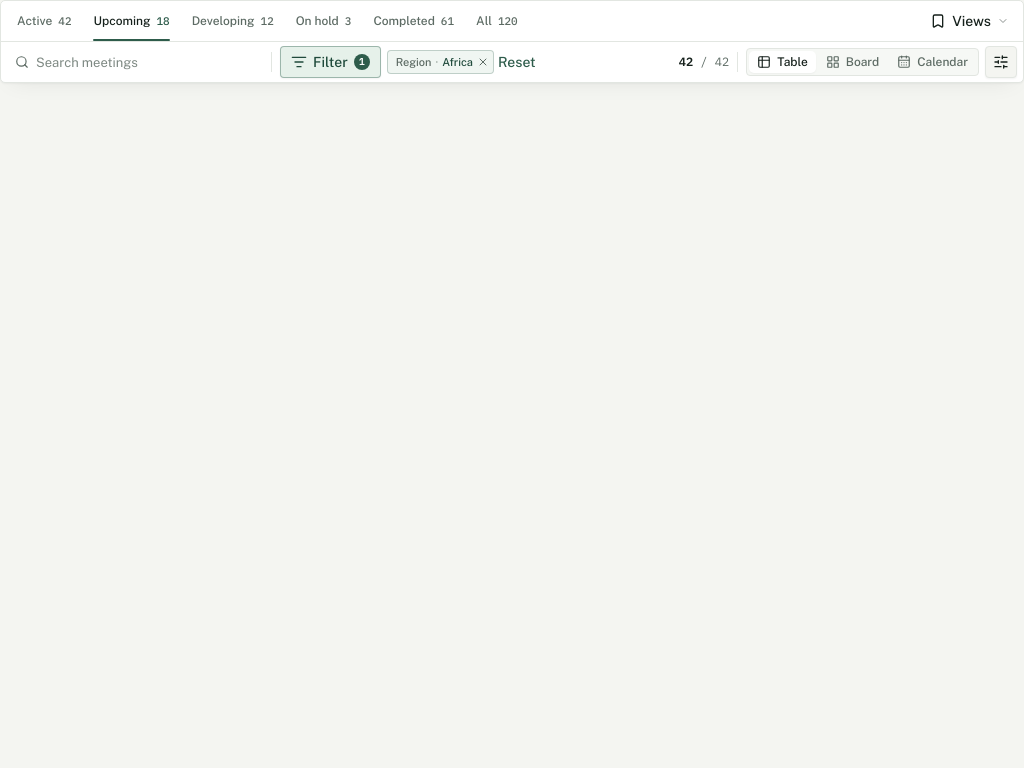
MeetingsToolbar › offers the built-in views as links, and saves the current filters under a name
The width and height of the screenshot is (1024, 768).
Click the button "Views" at (970, 21), box [920, 5, 1019, 37]
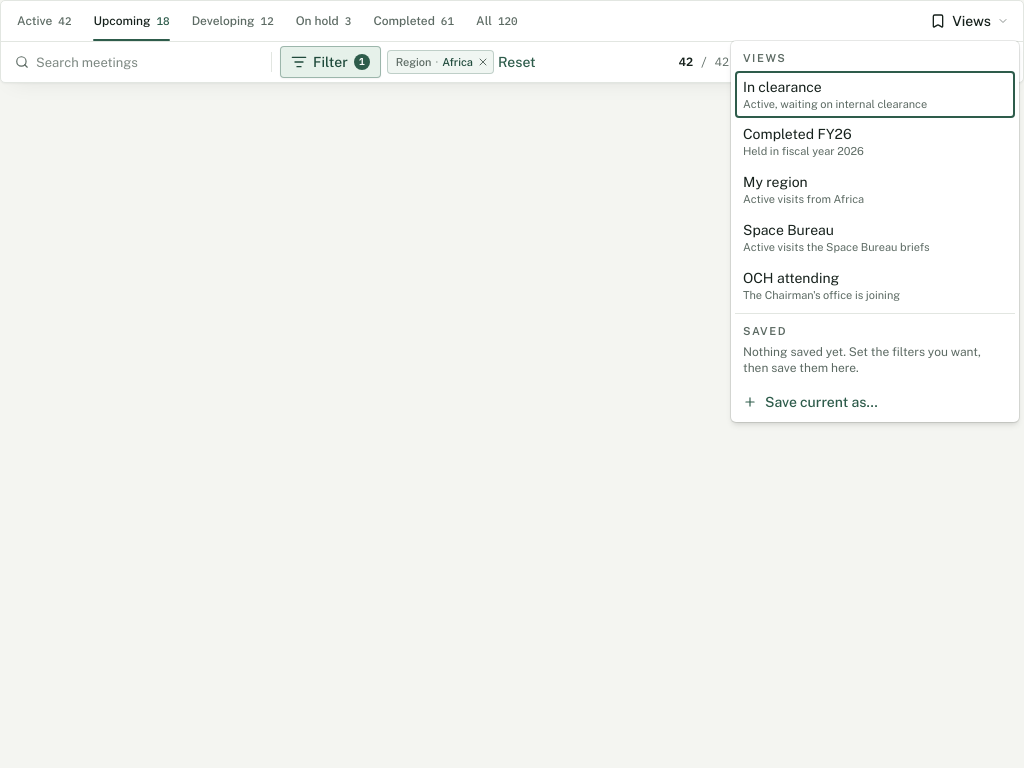
Result: the text "Nothing saved yet. Set the filters you want, then save them here." is shown at [743, 345, 981, 375]
Click the button "Save current as…" at (875, 402), box [735, 386, 1015, 418]
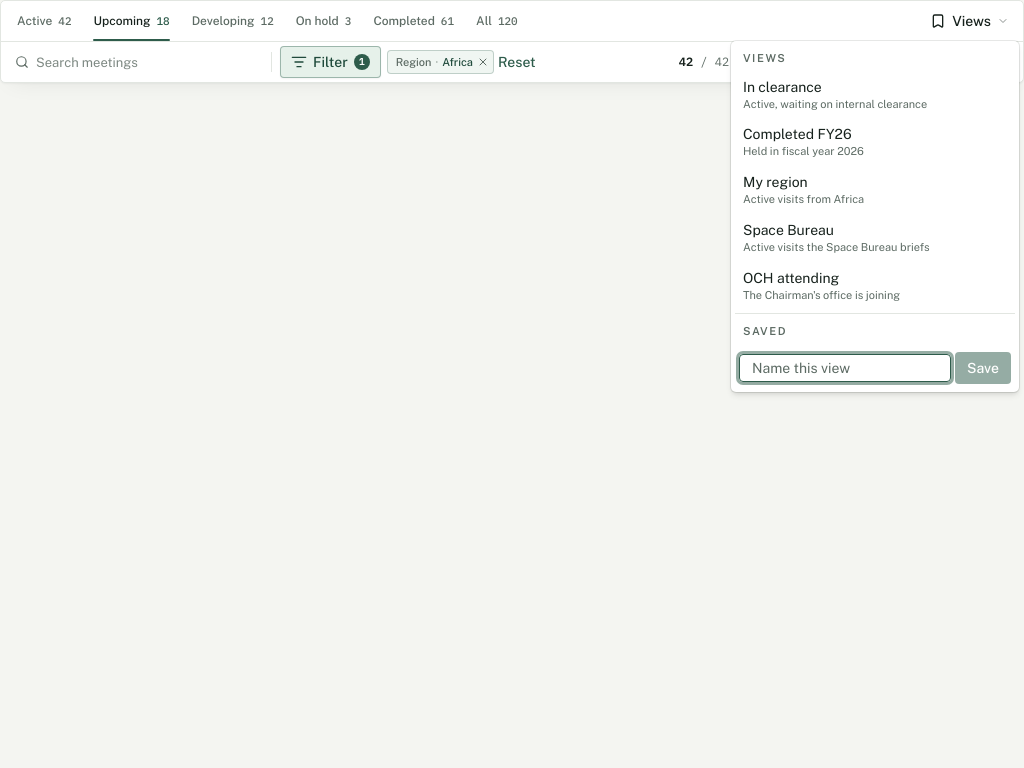
Type "Africa, soon" into the field labelled "View name" at (845, 368), box [739, 354, 951, 382]
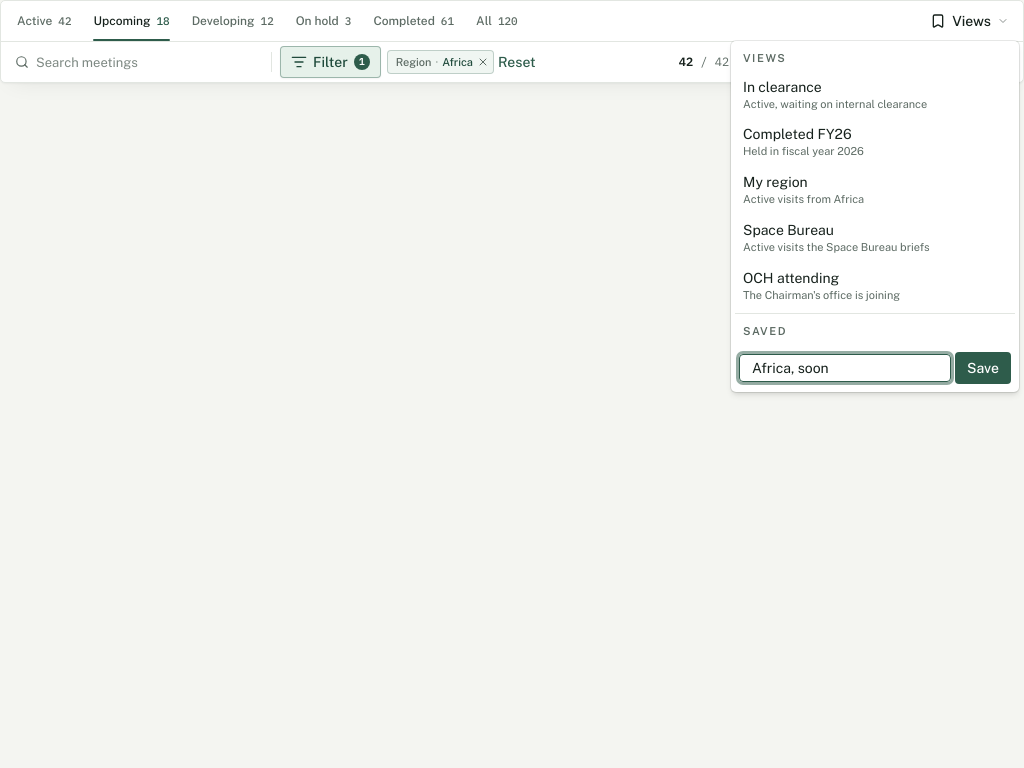
Click the button "Save" at (983, 368), box [955, 352, 1011, 384]
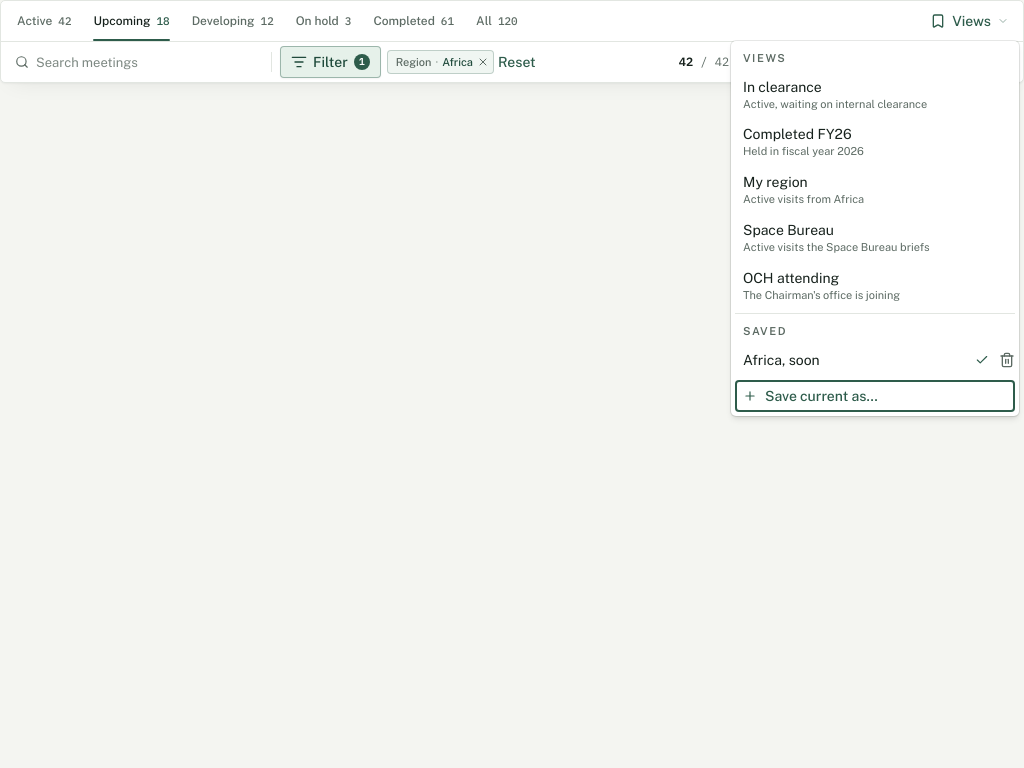
Click the button named "Delete Africa, soon" at (1007, 360), box [999, 352, 1015, 368]
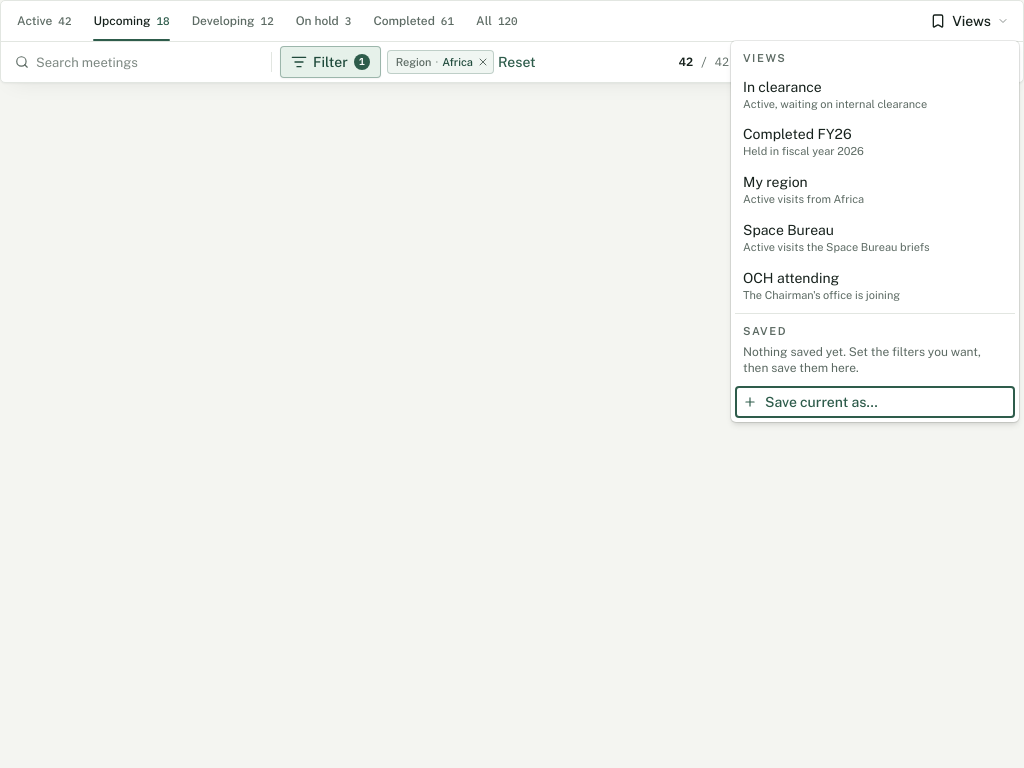
Result: the link "Africa, soon" is gone
